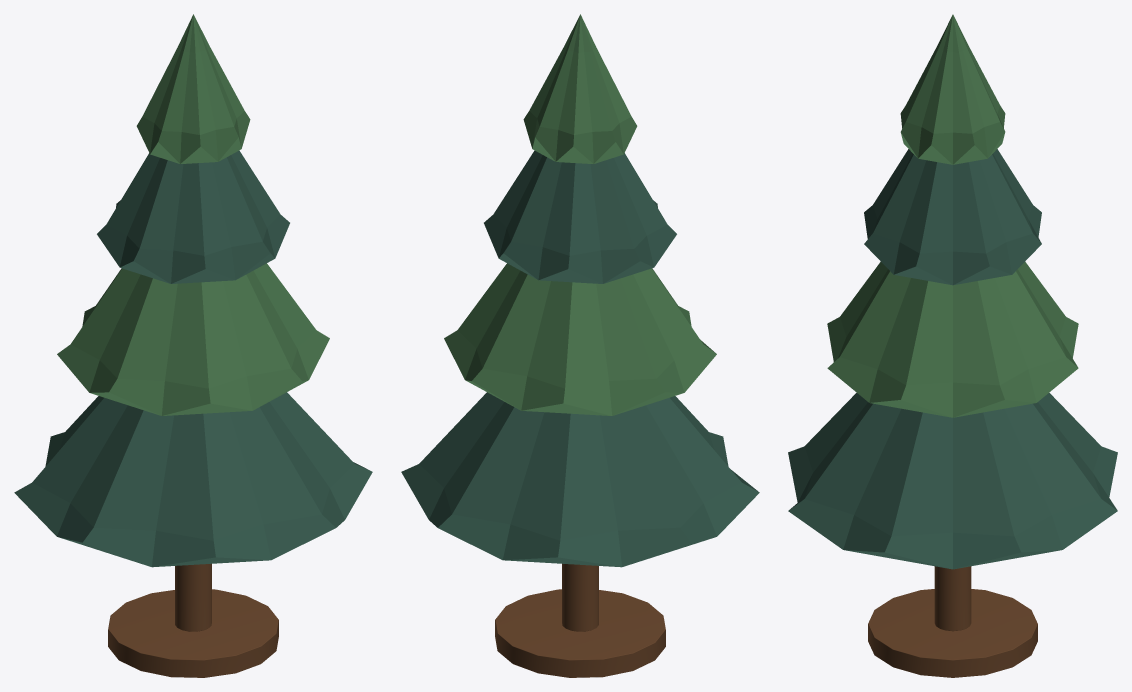
The model's file is S067_layered_pine_rebuilt.glb.
3 renders of one model, left to right at view 1: azimuth 30°, elevation 25°; view 2: azimuth 150°, elevation 25°; view 3: azimuth 270°, elevation 25°, orthographic.
Parts seen in each view (by area): view 1: Deep_green_outdoor_paint, Broad_leaf_midgreen, Oak_end_and_edge.001; view 2: Deep_green_outdoor_paint, Broad_leaf_midgreen, Oak_end_and_edge.001; view 3: Deep_green_outdoor_paint, Broad_leaf_midgreen, Oak_end_and_edge.001.
Part boxes in pixels (box(x1,y1,x2,y2)): Deep_green_outdoor_paint: box(14, 150, 372, 567); Broad_leaf_midgreen: box(57, 14, 329, 415); Oak_end_and_edge.001: box(108, 563, 278, 677); Deep_green_outdoor_paint: box(401, 150, 759, 567); Broad_leaf_midgreen: box(444, 14, 716, 415); Oak_end_and_edge.001: box(495, 563, 665, 677); Deep_green_outdoor_paint: box(788, 149, 1117, 569); Broad_leaf_midgreen: box(827, 14, 1078, 417); Oak_end_and_edge.001: box(868, 566, 1037, 677).
Size of the model in its own units: 1.54 by 3.19 by 1.52.
